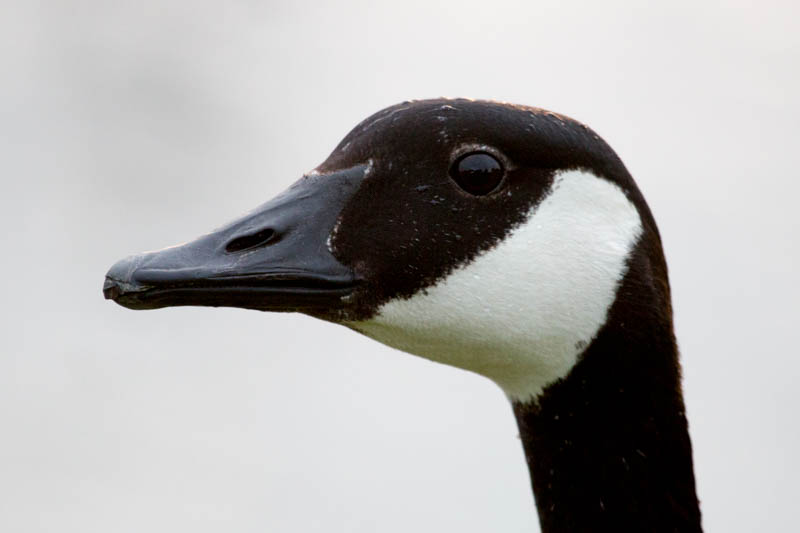goose-head: (102, 99, 675, 405)
